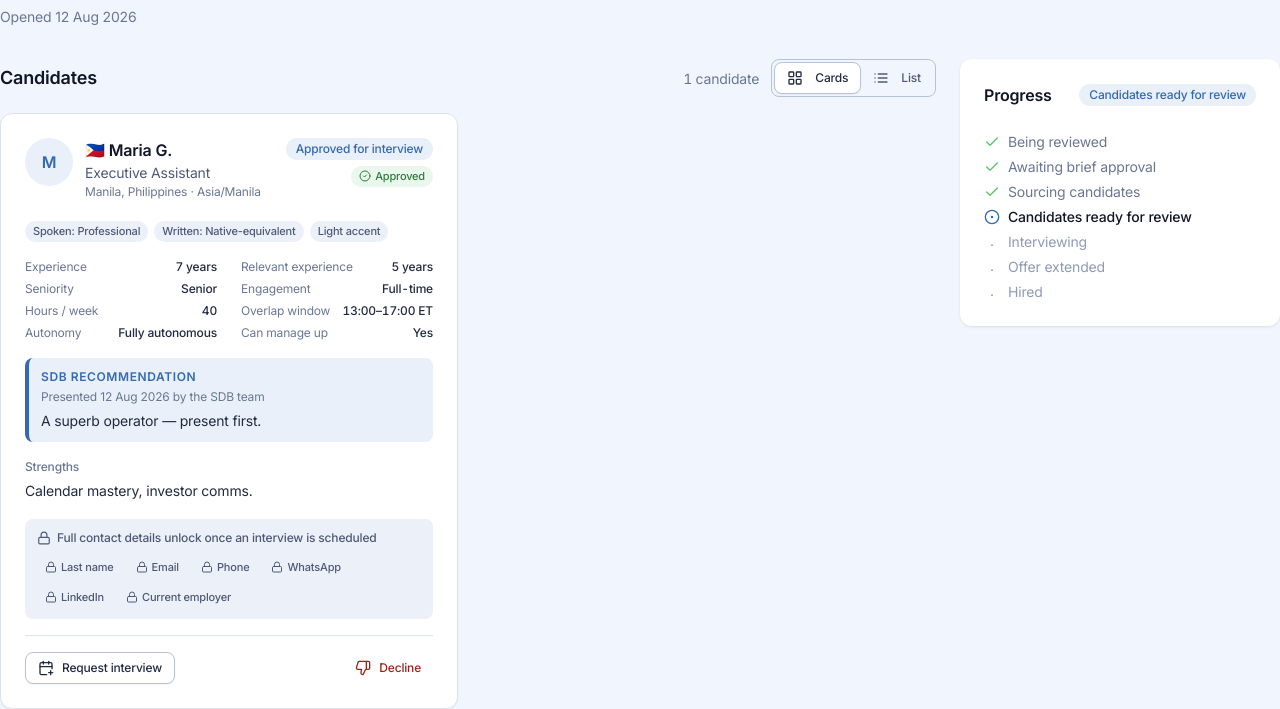
Scenario: client decisions › request interview (client_reviewing): confirm → POST request-interview → server-backed chip, stage unchanged
(page scrolled)
Click the button "Request interview": (100, 668) [25,652,175,684]
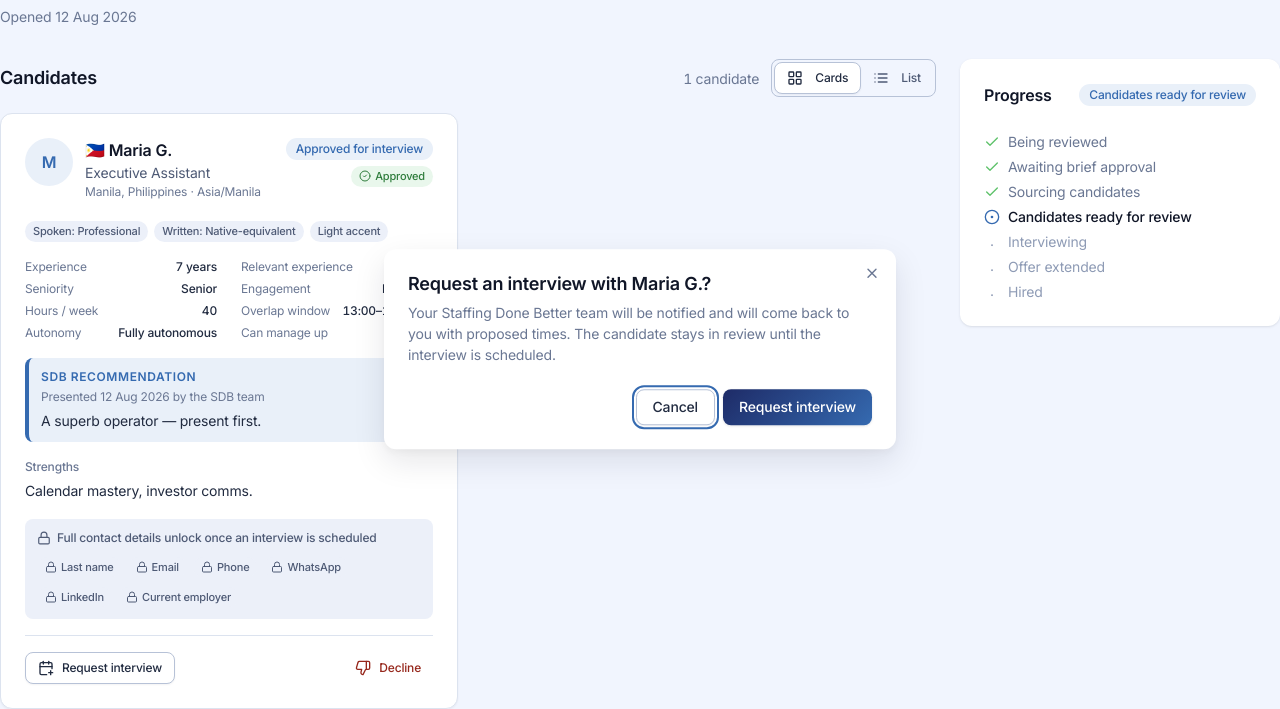
Click the button "Request interview": (797, 407) [723,389,872,425]
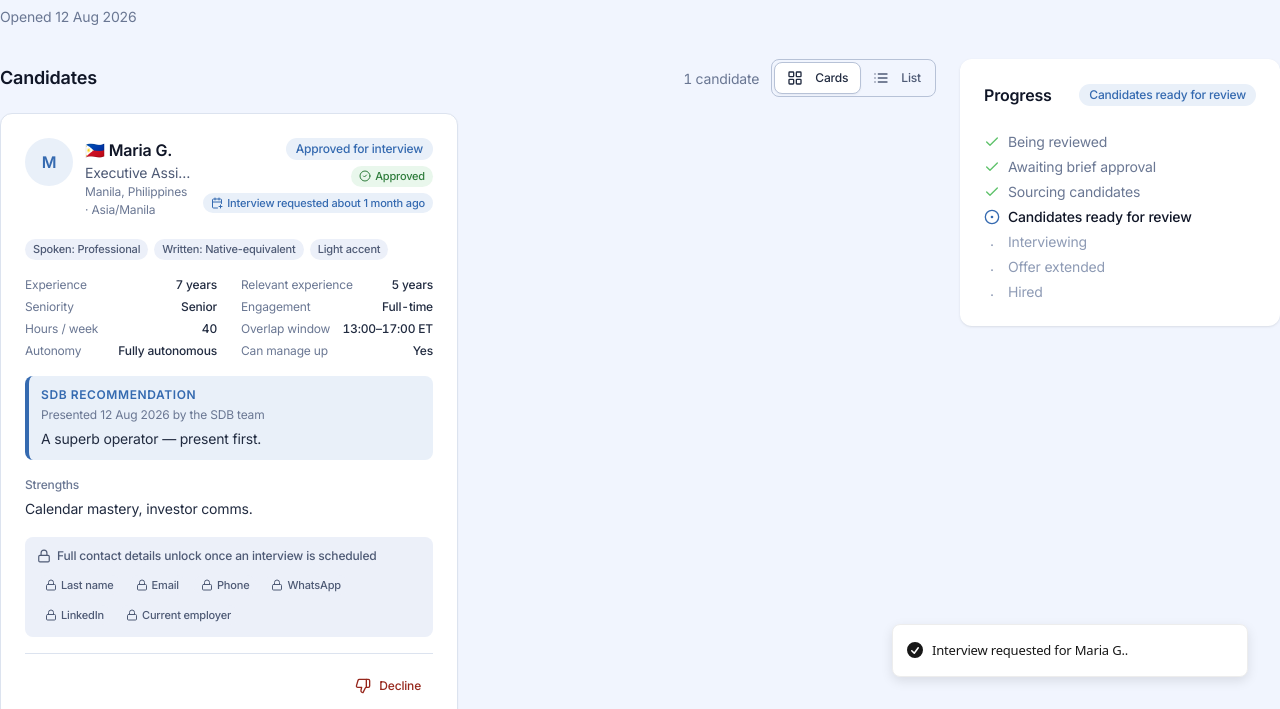
Expected: the text "Approved for interview" is shown, [286,138,433,160]
Now the text "Interview requested about 1 month ago" is shown, box [203,192,433,213]
Now the button "Request interview" is gone
